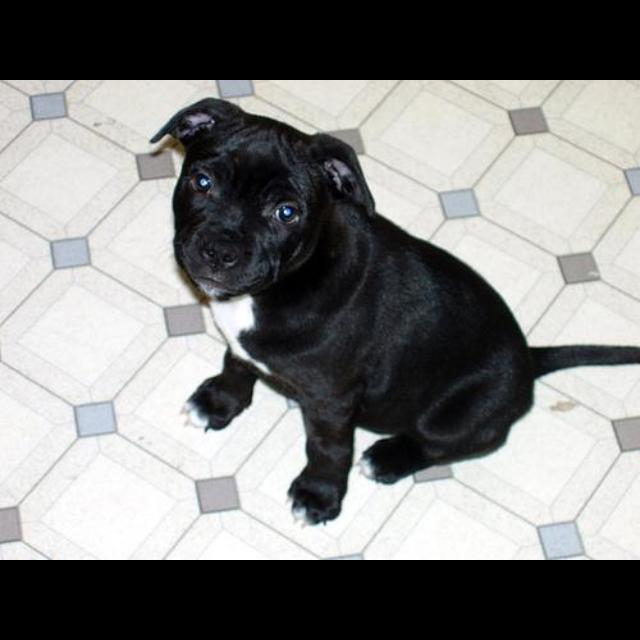staffford: (149, 97, 640, 528)
